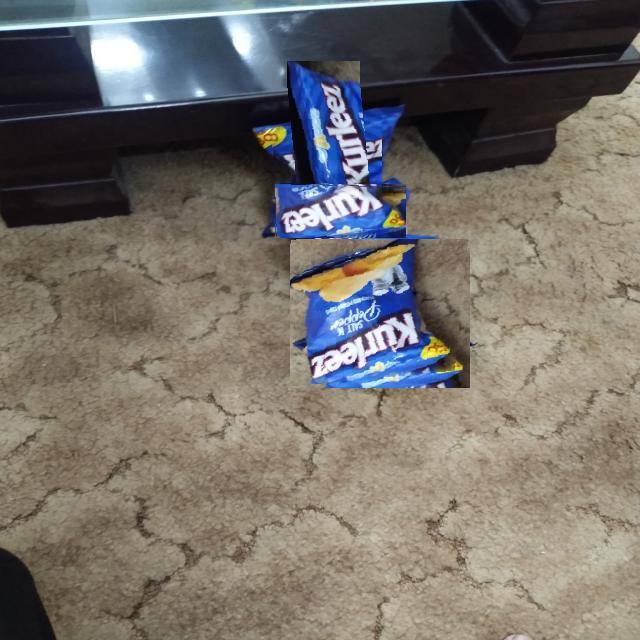Plastic: (290, 239, 470, 388), (266, 82, 382, 199), (274, 183, 406, 238)
